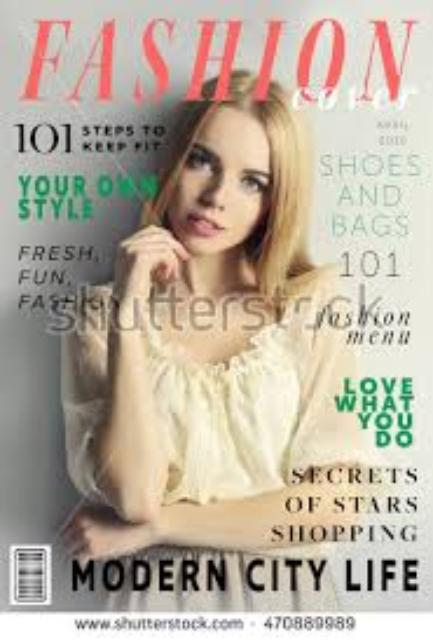cardboard paper: (263, 614, 349, 626)
